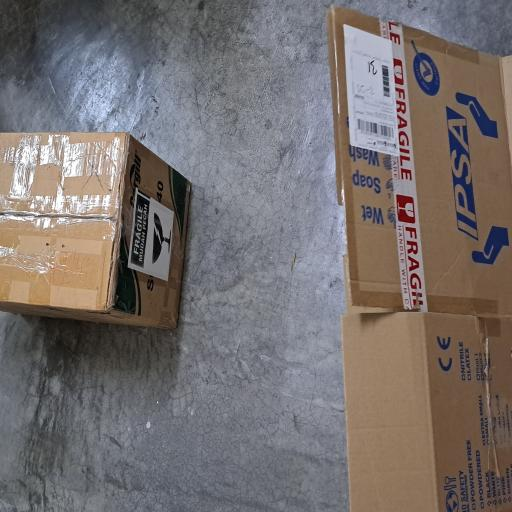cardboard: (137, 0, 284, 256), (0, 439, 379, 512)
